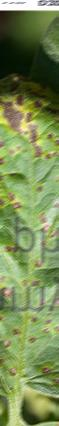Tomato Septoria leaf spot: (0, 65, 59, 399)
